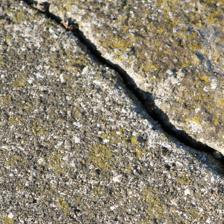Crack: (29, 3, 221, 177)
